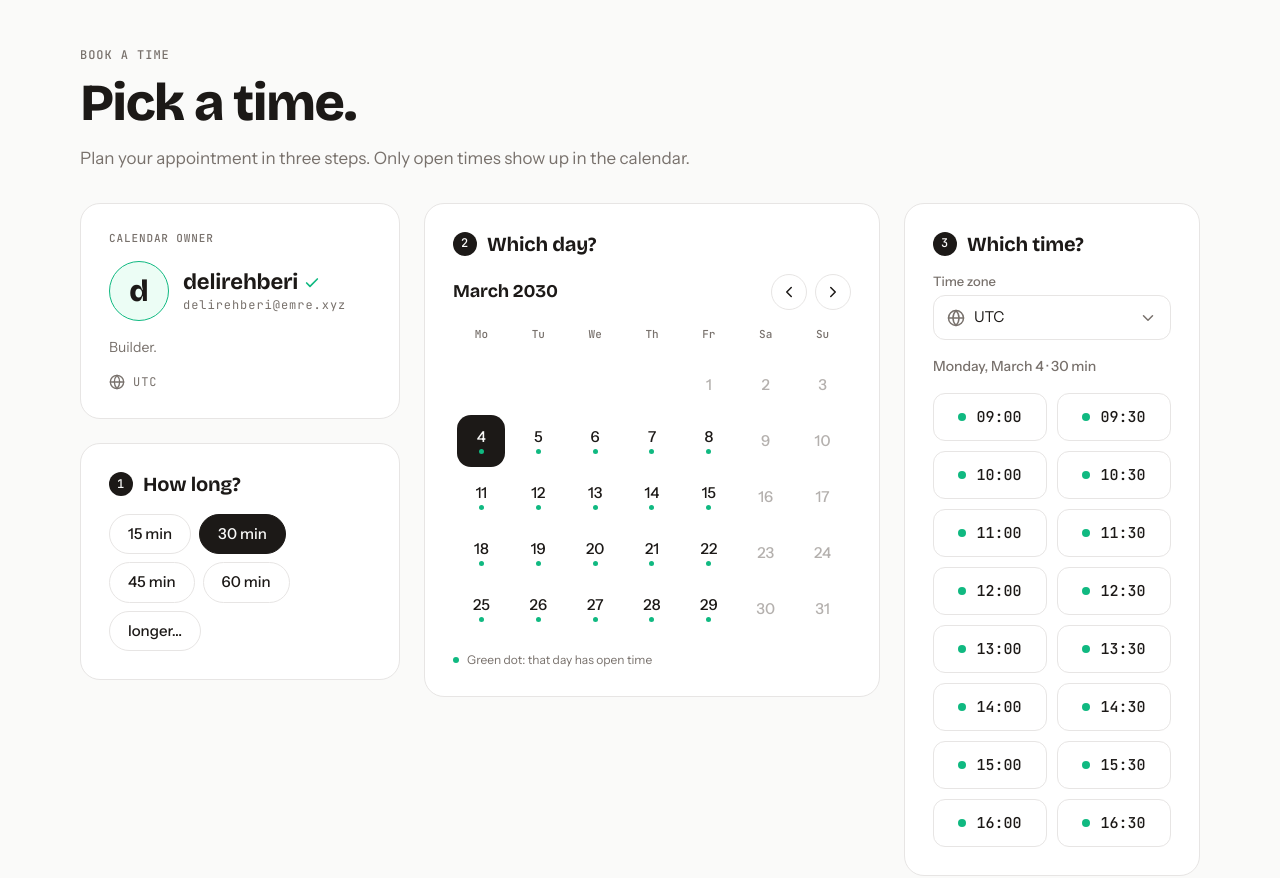
Test: BookingPage › opens the details form in place as soon as a time is chosen on tablet and desktop
Expected: the element named "Open times" is shown, left=933, top=393, right=1171, bottom=847
Click the button "14:30" at (1114, 707), box left=1057, top=683, right=1171, bottom=731
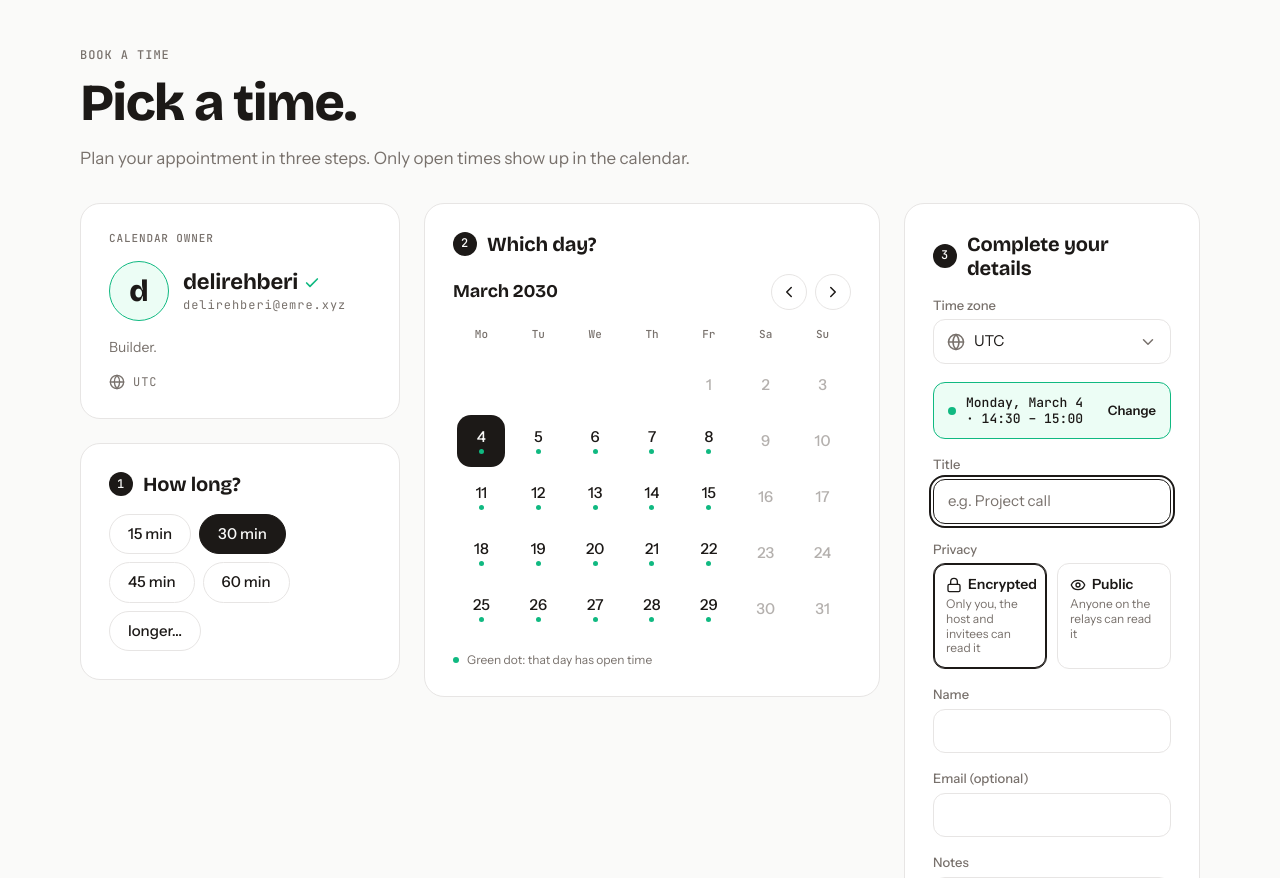
Expected: the heading "Complete your details" is shown, left=967, top=232, right=1108, bottom=280
Expected: the text "Monday, March 4 · 14:30 – 15:00" is shown, left=966, top=395, right=1098, bottom=426
Click the button "Change" at (1132, 411), box left=1108, top=403, right=1156, bottom=418
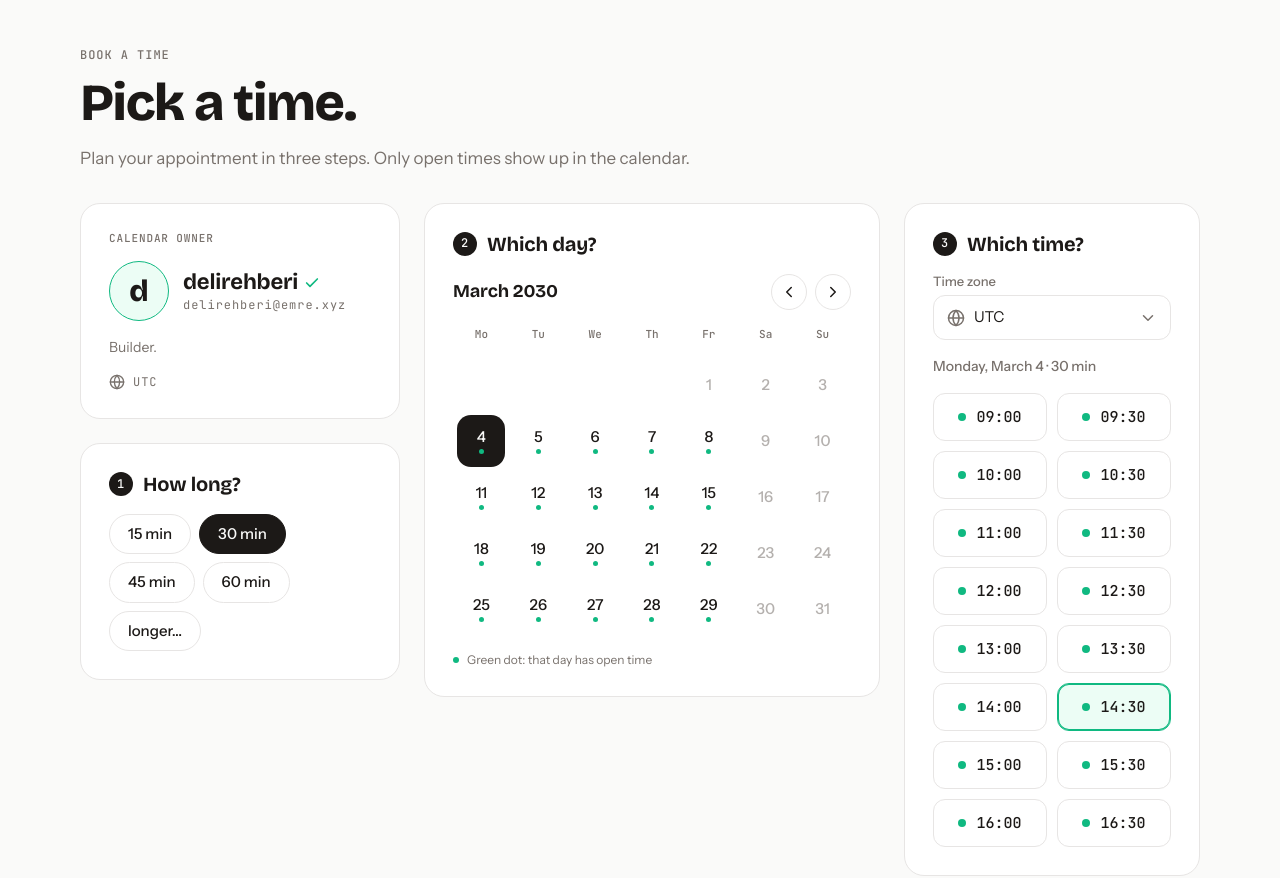
Expected: the heading "Which time?" is shown, left=967, top=232, right=1083, bottom=256
